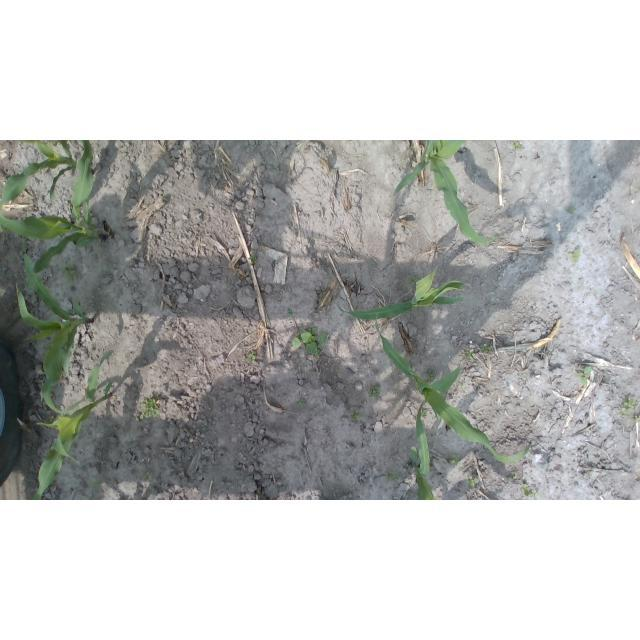Maize: (375, 310, 534, 465), (1, 141, 108, 290), (16, 350, 121, 500), (15, 240, 96, 415), (393, 140, 502, 246), (336, 265, 469, 322), (0, 140, 96, 208), (408, 388, 444, 501)
Weeds: (291, 327, 329, 355), (140, 398, 159, 420), (61, 263, 80, 284), (575, 367, 591, 386), (520, 484, 538, 499), (622, 397, 638, 411), (568, 249, 582, 264), (461, 346, 475, 360), (369, 385, 382, 399), (465, 476, 479, 488), (387, 471, 400, 482), (479, 343, 491, 354), (245, 351, 255, 364), (248, 253, 258, 265), (506, 471, 518, 481), (451, 454, 460, 467), (350, 413, 361, 423), (284, 308, 294, 319), (140, 469, 150, 479), (427, 371, 436, 382), (617, 408, 627, 417), (512, 142, 522, 151), (411, 278, 420, 287), (298, 399, 306, 409), (633, 414, 640, 423), (568, 207, 577, 214)
